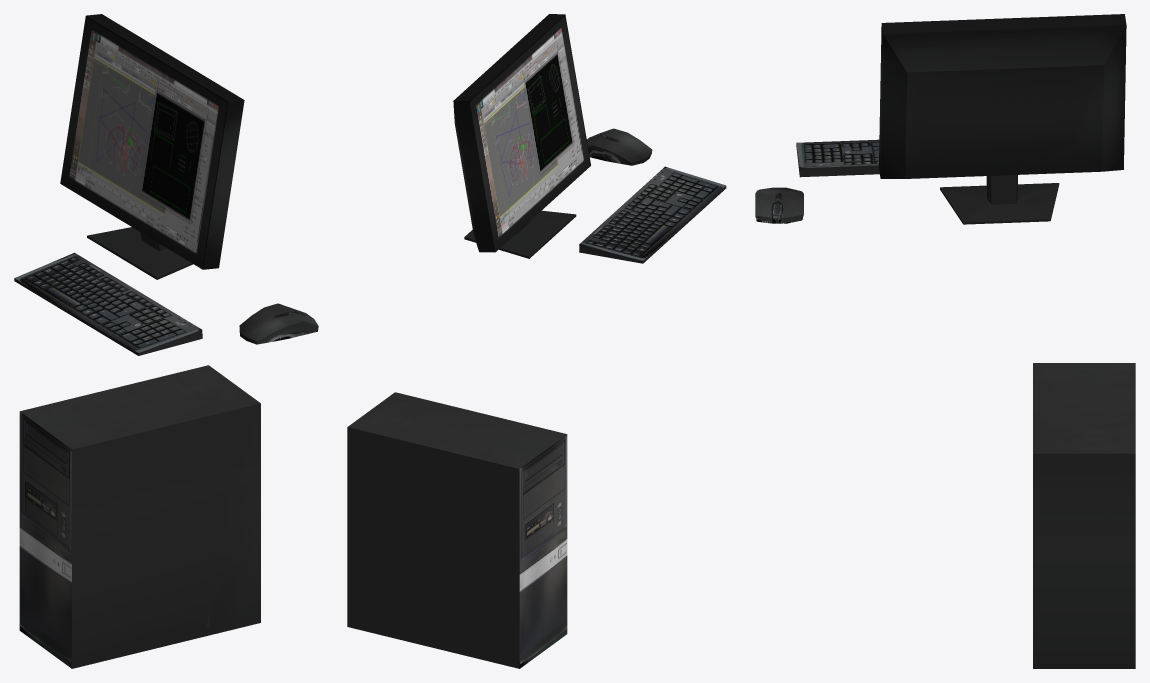
The model's file is computador.FBX.
The picture shows the model from 3 angles, left to right: view 1: azimuth 30°, elevation 25°; view 2: azimuth 150°, elevation 25°; view 3: azimuth 270°, elevation 25°; orthographic projection. The views are drawn at different scales.
Visible parts, largest first — view 1: pantalla; view 2: pantalla; view 3: pantalla.
Boxes of the visible parts, bbox=[...] form: pantalla: bbox=[14, 14, 318, 668]; pantalla: bbox=[347, 14, 726, 668]; pantalla: bbox=[755, 14, 1135, 668].
Bounding box in the file's own units: 12.61 × 28.07 × 16.31.
